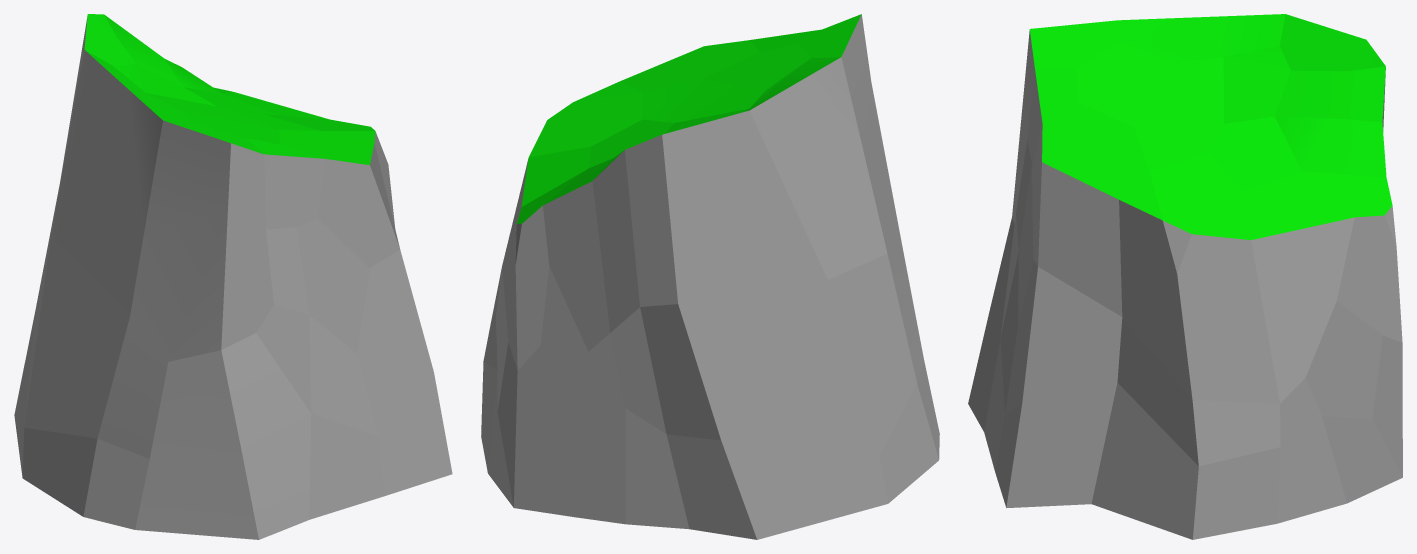
Rendered from rock_beach_big_A.fbx.
The picture shows the model from 3 angles, left to right: view 1: azimuth 30°, elevation 25°; view 2: azimuth 150°, elevation 25°; view 3: azimuth 270°, elevation 25°; orthographic projection. The views are drawn at different scales.
Parts seen in each view (by area): view 1: rock_beach_big_A; view 2: rock_beach_big_A; view 3: rock_beach_big_A.
Part boxes in pixels (x1=…): rock_beach_big_A: x1=14, y1=14, x2=452, y2=539; rock_beach_big_A: x1=481, y1=14, x2=939, y2=539; rock_beach_big_A: x1=968, y1=14, x2=1402, y2=539.
Size of the model in its own units: 126 by 116 by 120.
